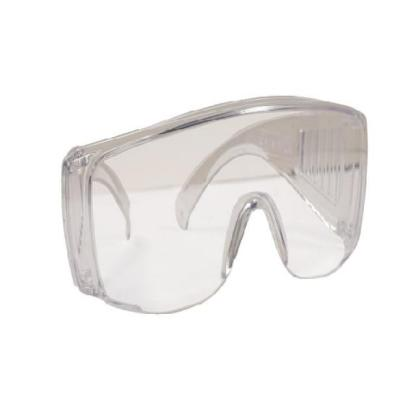oculos: (58, 77, 378, 330)
